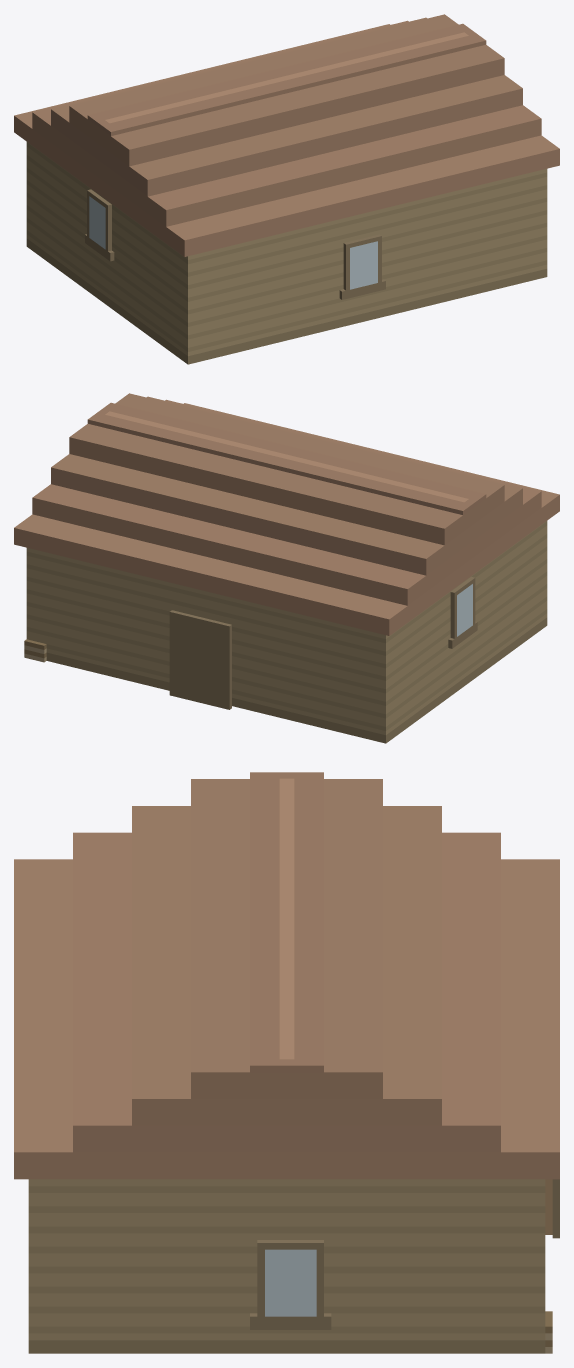
File: botica_04.glb
3 views of the same model, one above another, from view 1: azimuth 30°, elevation 25°; view 2: azimuth 150°, elevation 25°; view 3: azimuth 270°, elevation 25° (orthographic). The views are drawn at different scales.
Parts seen in each view (by area): view 1: botica_04; view 2: botica_04; view 3: botica_04.
Boxes of the visible parts, <box> form: botica_04: <box>14,14,559,364</box>; botica_04: <box>14,393,559,743</box>; botica_04: <box>14,772,559,1353</box>.
Size of the model in its own units: 9.4 by 4.4 by 7.4.
